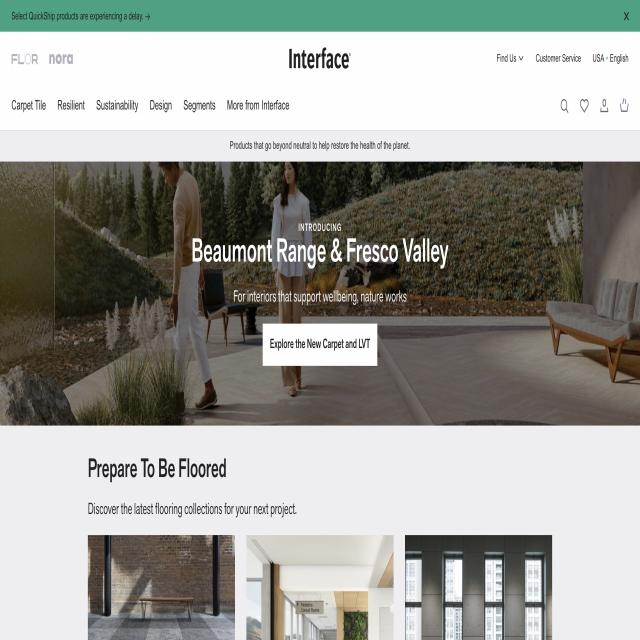Logo: (278, 36, 358, 80)
Navigation: (0, 89, 293, 124)
